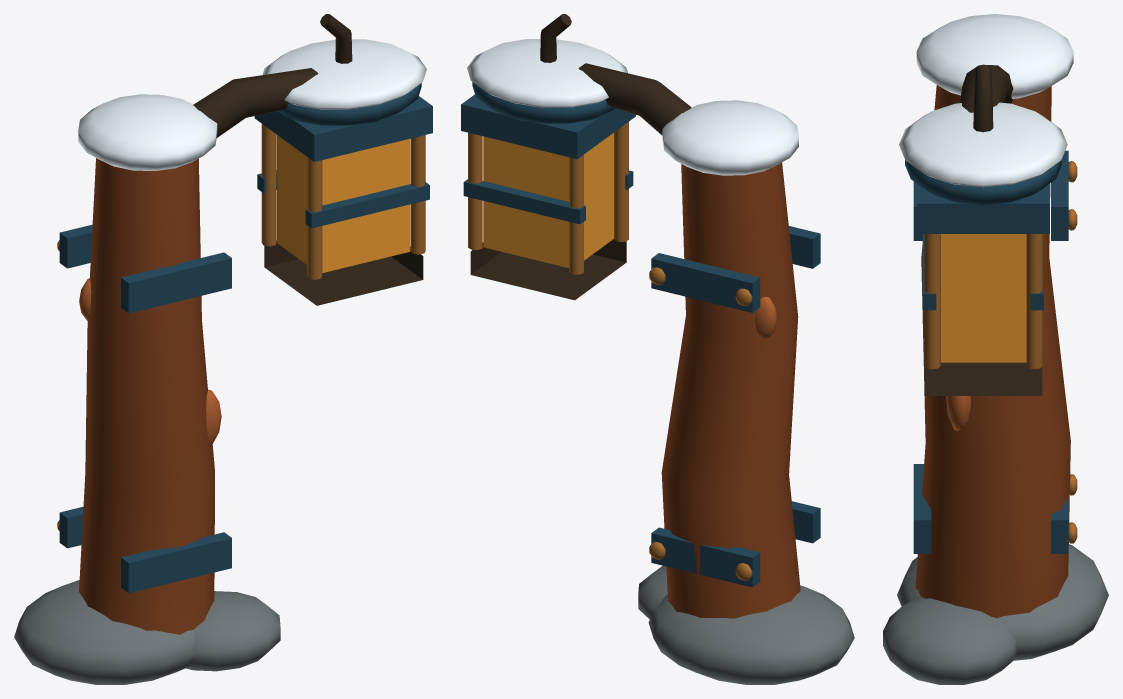
The model's file is gate_post.obj.
3 views of the same model, side by side, from view 1: azimuth 30°, elevation 25°; view 2: azimuth 150°, elevation 25°; view 3: azimuth 270°, elevation 25° (orthographic). The views are drawn at different scales.
Parts seen in each view (by area): view 1: gate_post; view 2: gate_post; view 3: gate_post.
Part boxes in pixels (x1,y1,x2,y2): gate_post: (14, 14, 432, 684); gate_post: (461, 14, 854, 684); gate_post: (883, 14, 1108, 684).
Size of the model in its own units: 1.26 by 1.92 by 0.5755.
